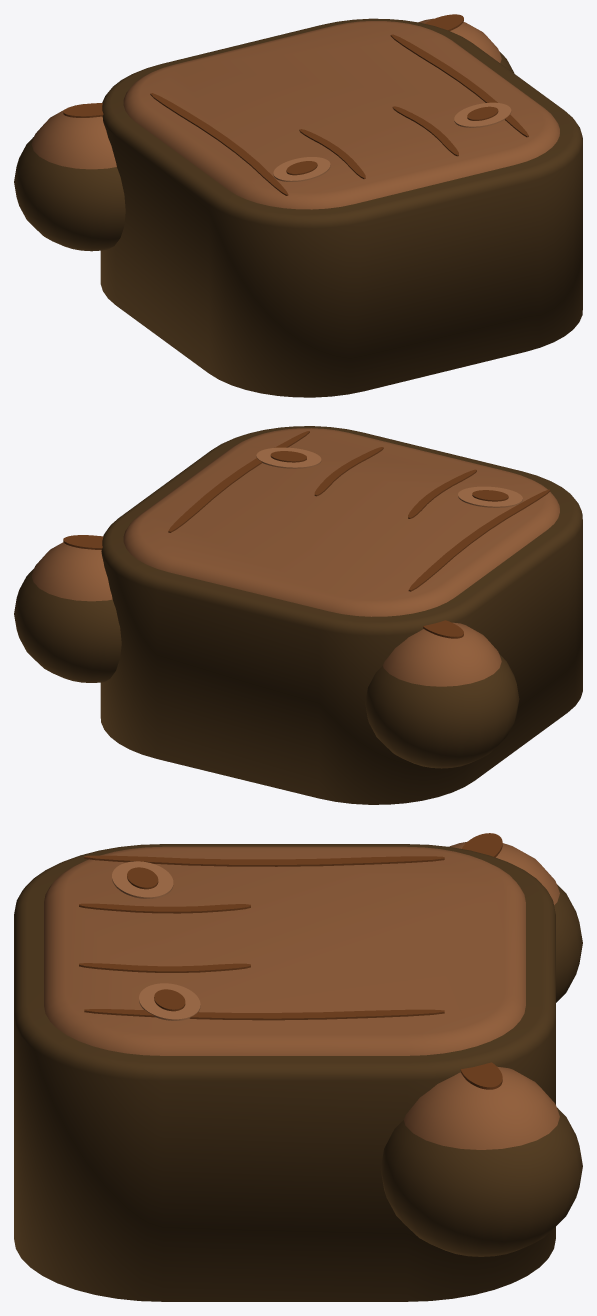
File: body_estampa_madeira.fbx
3 renders of one model, top to bottom at view 1: azimuth 30°, elevation 25°; view 2: azimuth 150°, elevation 25°; view 3: azimuth 270°, elevation 25°, orthographic. The views are drawn at different scales.
Visible parts, largest first — view 1: body_estampa_madeira_corpo, body_estampa_madeira_mao_esq, body_estampa_madeira_mao; view 2: body_estampa_madeira_corpo, body_estampa_madeira_mao_esq, body_estampa_madeira_mao; view 3: body_estampa_madeira_corpo, body_estampa_madeira_mao, body_estampa_madeira_mao_esq.
Boxes of the visible parts, x1=… form: body_estampa_madeira_corpo: x1=100, y1=18, x2=582, y2=397; body_estampa_madeira_mao_esq: x1=14, y1=103, x2=125, y2=251; body_estampa_madeira_mao: x1=419, y1=14, x2=514, y2=73; body_estampa_madeira_corpo: x1=100, y1=426, x2=582, y2=804; body_estampa_madeira_mao_esq: x1=365, y1=620, x2=519, y2=768; body_estampa_madeira_mao: x1=14, y1=535, x2=121, y2=682; body_estampa_madeira_corpo: x1=14, y1=844, x2=555, y2=1301; body_estampa_madeira_mao: x1=380, y1=1062, x2=582, y2=1256; body_estampa_madeira_mao_esq: x1=449, y1=833, x2=582, y2=1002.
Bounding box in the file's own units: 5.4 × 2.03 × 4.2.
Materials: 1 (1 with a texture image).
